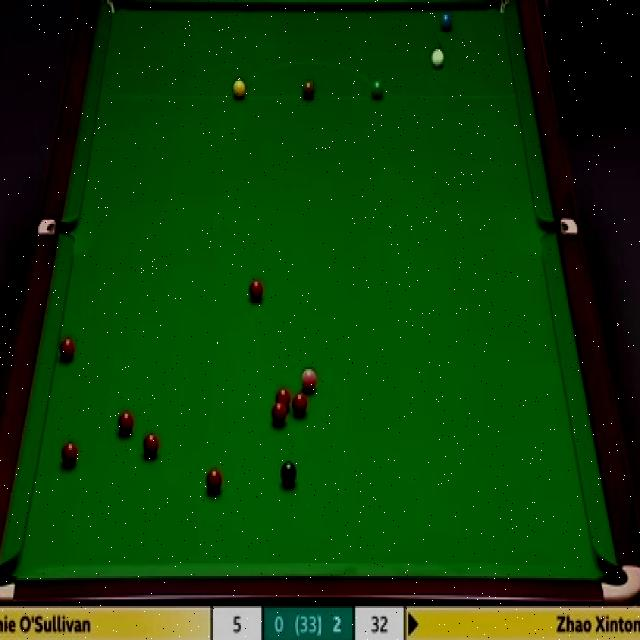black-ball: (281, 461, 298, 485)
blue-ball: (441, 12, 451, 34)
brown-ball: (302, 81, 316, 99)
green-ball: (370, 77, 385, 102)
pink-ball: (300, 371, 317, 389)
red-ball: (269, 400, 289, 425), (142, 434, 161, 460), (204, 466, 223, 492), (61, 442, 79, 468), (273, 386, 291, 412), (118, 411, 135, 438), (291, 393, 310, 417), (59, 335, 76, 359), (247, 279, 264, 300)
white-ball: (431, 48, 445, 70)
yellow-ball: (232, 78, 246, 100)
